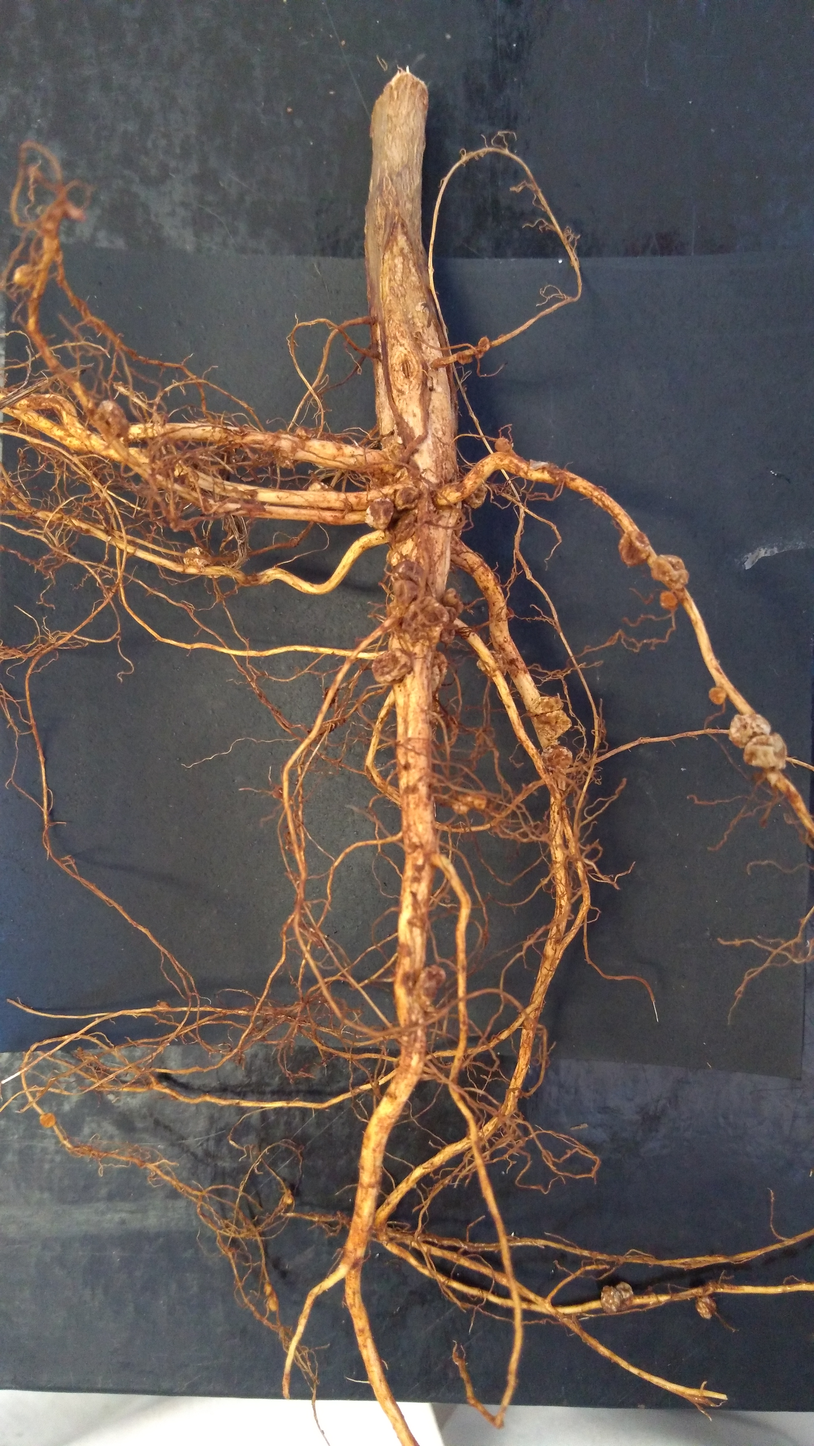nodule: (386, 560, 433, 611), (726, 710, 778, 751), (740, 731, 791, 772), (402, 596, 450, 639), (648, 550, 693, 594), (411, 964, 453, 1011), (614, 525, 656, 569), (96, 395, 133, 439), (370, 649, 414, 686), (180, 546, 222, 580), (533, 708, 576, 741), (538, 742, 576, 778), (426, 648, 453, 698), (360, 496, 397, 532), (474, 647, 512, 681), (394, 483, 428, 514), (462, 478, 489, 513), (527, 693, 565, 716), (13, 262, 41, 291), (599, 1284, 623, 1317), (654, 588, 684, 614), (442, 585, 465, 615), (695, 1292, 718, 1322), (706, 684, 729, 710), (492, 434, 516, 456), (615, 1278, 637, 1302), (305, 480, 342, 494), (273, 452, 298, 469), (37, 1110, 58, 1129), (441, 620, 457, 644), (451, 799, 472, 817), (476, 335, 495, 354), (293, 426, 316, 440), (454, 350, 474, 366), (473, 794, 488, 813), (265, 1295, 280, 1313), (153, 999, 171, 1013), (444, 607, 459, 623), (262, 1281, 275, 1296), (282, 1192, 294, 1206)
